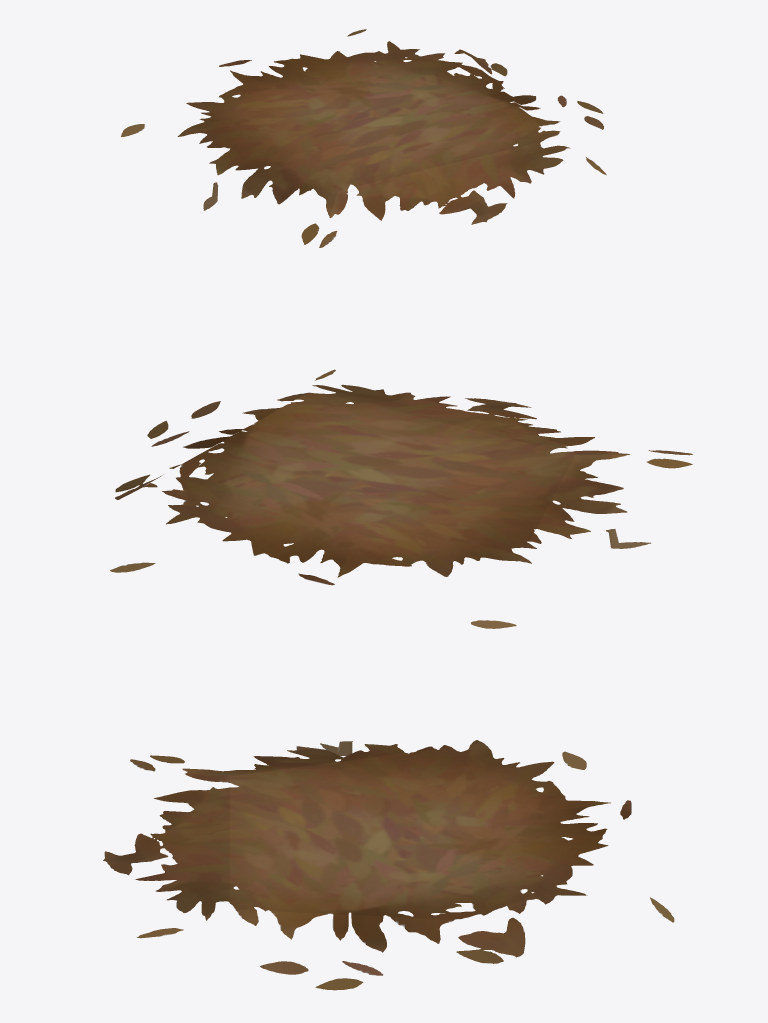
Rendered from leaves.fbx.
3 renders of one model, top to bottom at view 1: azimuth 30°, elevation 25°; view 2: azimuth 150°, elevation 25°; view 3: azimuth 270°, elevation 25°, orthographic. The views are drawn at different scales.
Visible parts, largest first — view 1: Plane.013; view 2: Plane.013; view 3: Plane.013.
Boxes of the visible parts, <box> form: Plane.013: <box>121,29,606,247</box>; Plane.013: <box>110,369,692,628</box>; Plane.013: <box>103,740,674,990</box>.
Bounding box in the file's own units: 231 × 9.86 × 240.
